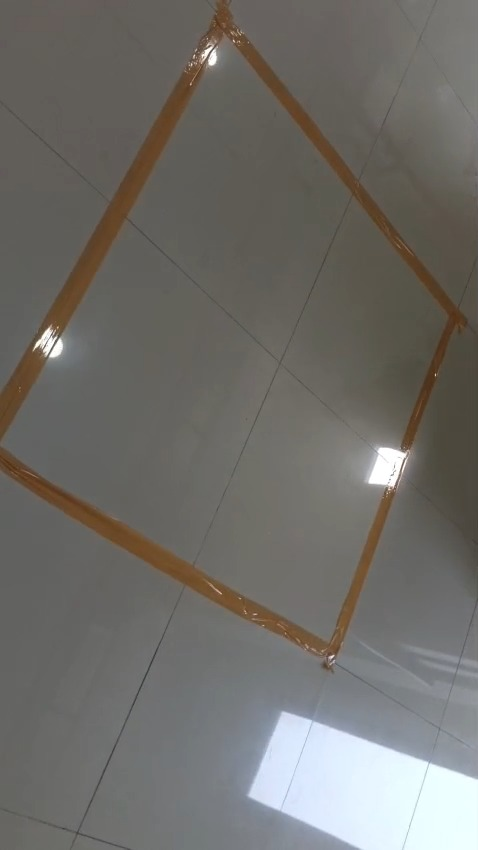floor marking: (0, 0, 465, 668)
